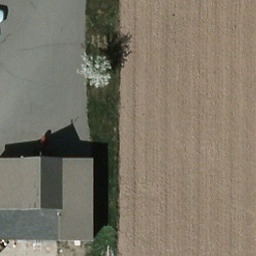car: (0, 8, 6, 24)
